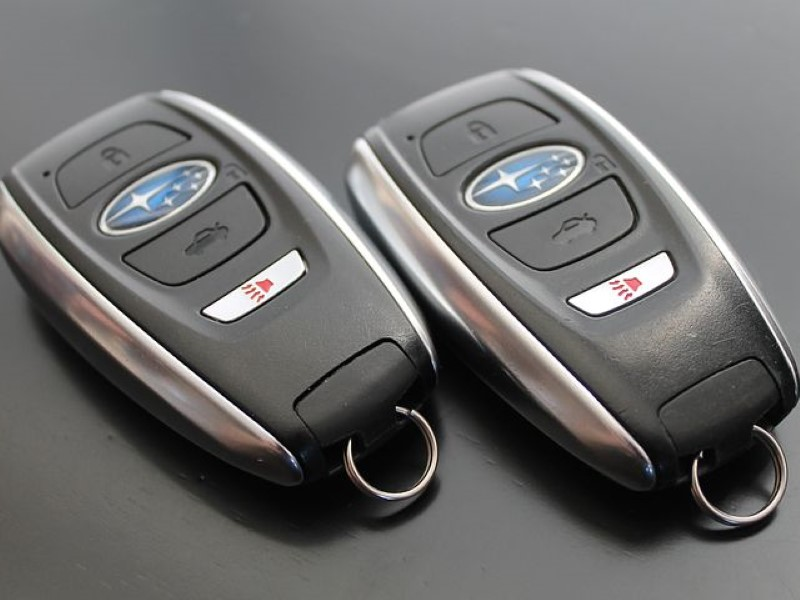carkey: (333, 56, 796, 546), (2, 80, 453, 537)
